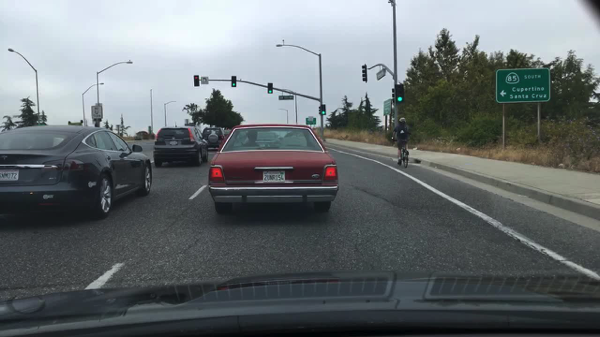car: (1, 123, 154, 222), (208, 123, 338, 216), (151, 126, 209, 168), (201, 126, 224, 149), (224, 127, 232, 137)
traffic light: (395, 82, 404, 105), (360, 62, 368, 84), (389, 86, 396, 105), (267, 82, 274, 96), (230, 76, 238, 88), (320, 104, 327, 116), (194, 74, 200, 88), (316, 104, 321, 116)
traffic sign: (493, 67, 551, 102), (381, 97, 391, 117), (90, 105, 103, 120), (374, 67, 387, 80), (304, 116, 317, 125), (277, 96, 294, 101), (201, 77, 208, 85), (184, 118, 189, 125)
